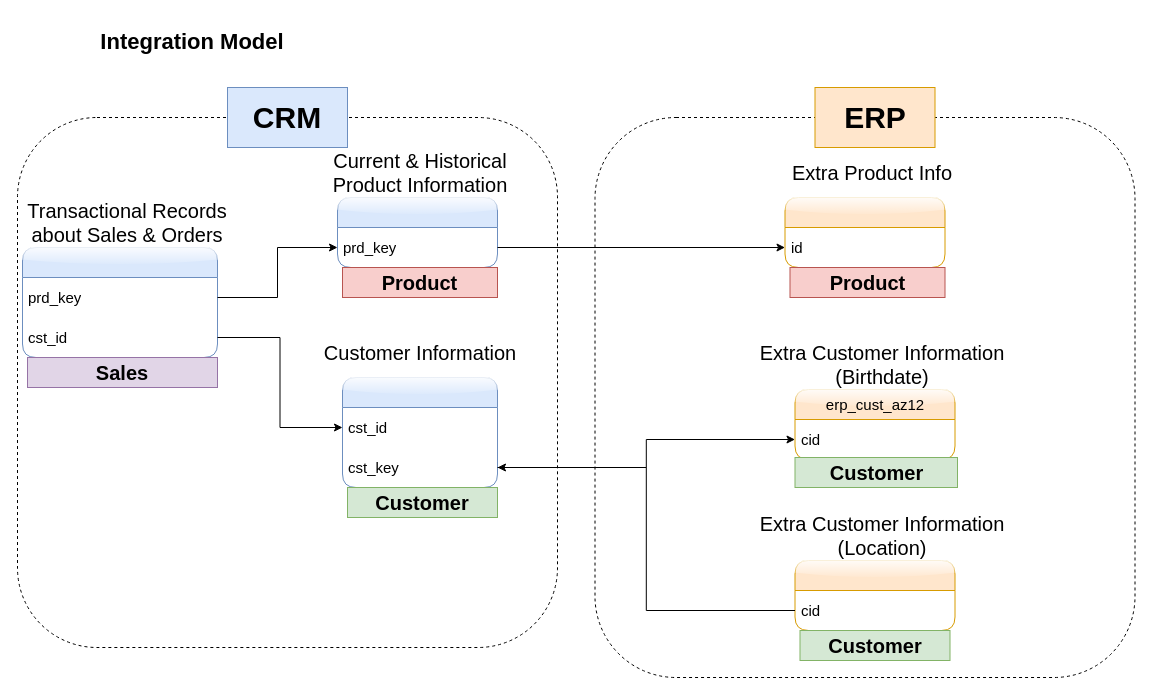
Some shapes in this 1153 by 695 pixel diagram are drawn without their labels. The box of each missing label's shape, as (x1, y1, x2, y2) in pixels:
crm_cust_info: (342, 376, 498, 488)
crm_prd_info: (336, 196, 498, 268)
crm_sales_details: (22, 246, 218, 358)
erp_loc_a101: (794, 560, 955, 630)
erp_px_cat_g1v2: (784, 196, 945, 268)
